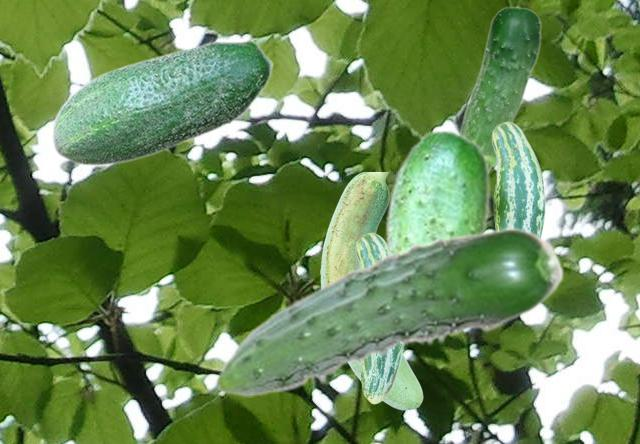cucumber: (214, 227, 564, 396), (51, 39, 273, 165), (320, 172, 422, 409), (384, 128, 489, 343), (459, 6, 541, 172), (355, 232, 403, 403), (491, 121, 544, 235)
